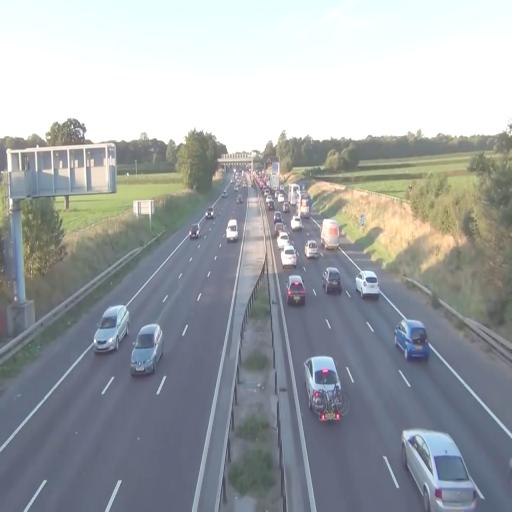vehicle: (401, 429, 482, 511), (303, 356, 343, 418), (129, 322, 163, 378), (94, 304, 130, 354), (394, 317, 429, 362), (286, 273, 306, 307), (358, 273, 380, 301), (323, 266, 342, 296), (280, 244, 298, 268), (304, 238, 320, 260), (225, 218, 238, 242), (290, 215, 302, 231), (190, 223, 200, 238), (205, 209, 212, 220)
